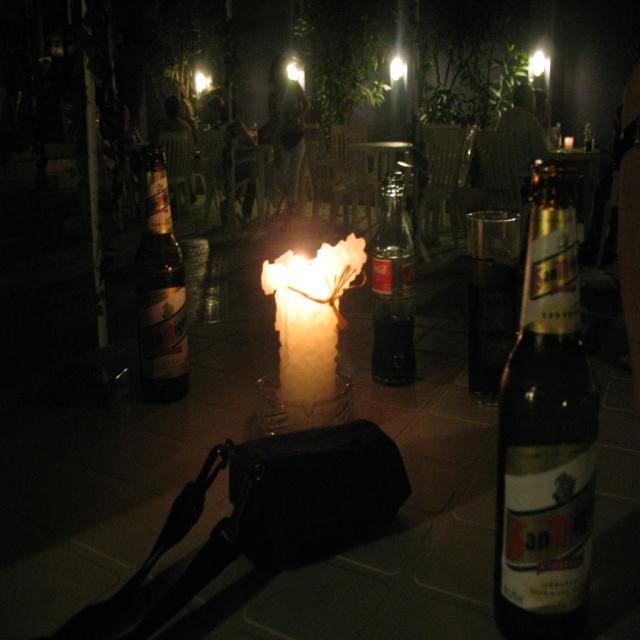Bottle: (510, 120, 618, 601), (347, 150, 433, 418), (121, 126, 200, 395)
Cup: (468, 193, 536, 412)
